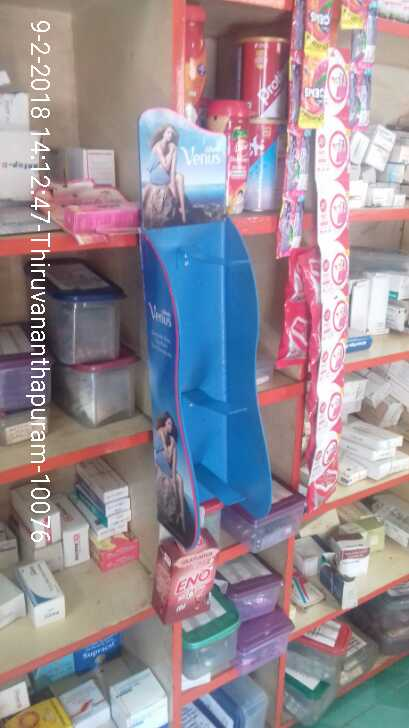reject: (123, 234, 206, 325)
